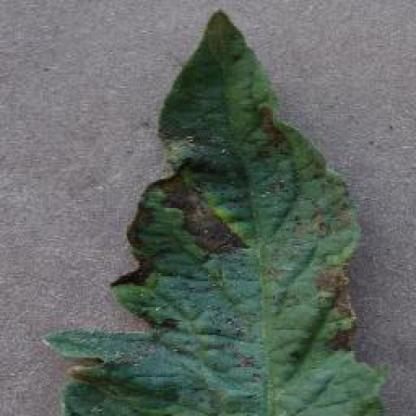Tomato_Blight: (45, 10, 384, 416)
